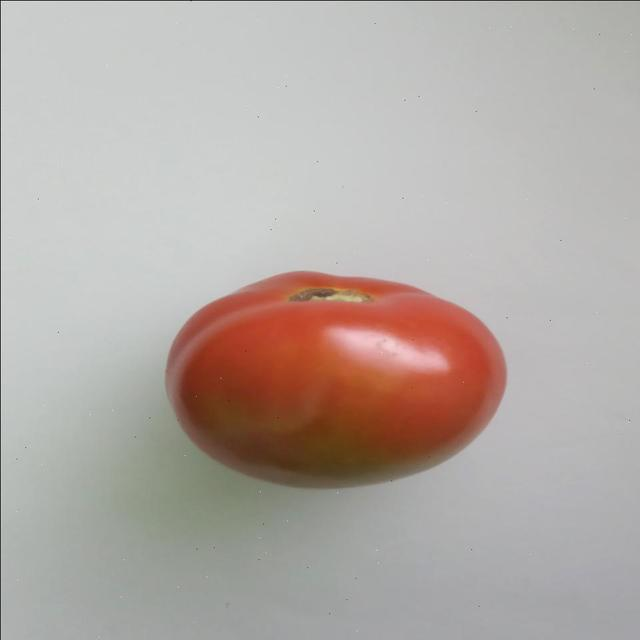Healthy Fruit: (105, 179, 338, 329)
